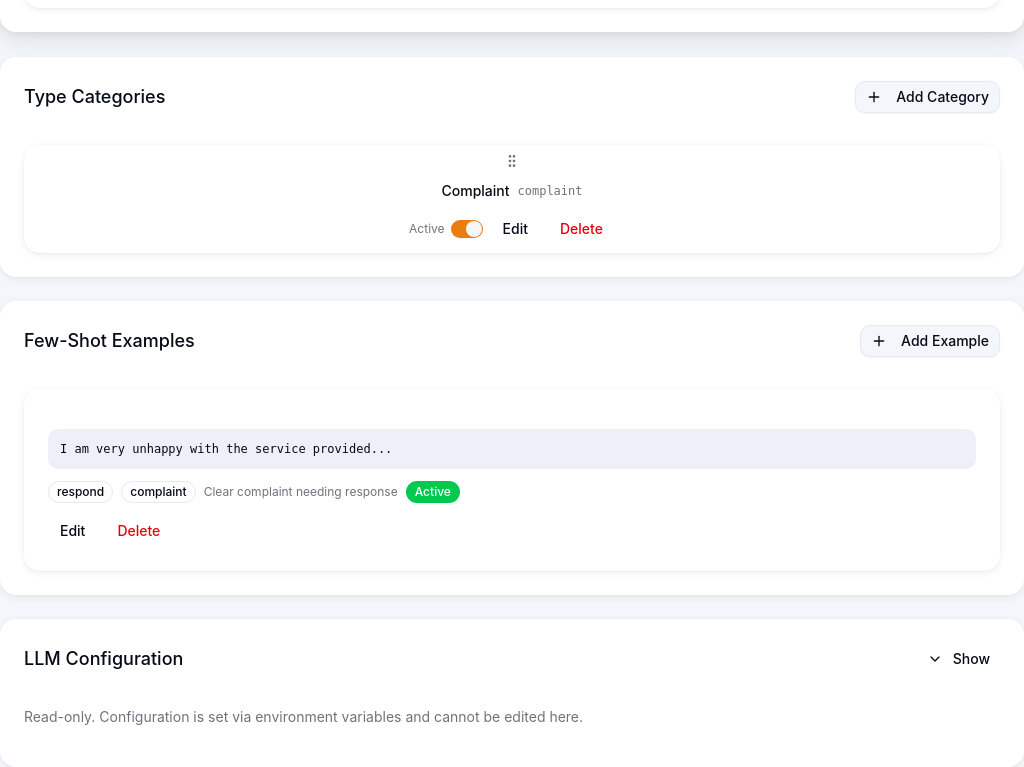
it: ClassificationConfigPage › clicking Show on LLM Configuration expands the section
This screenshot has width=1024, height=767.
(page scrolled)
Click the button "Show" at [958, 659], box [917, 643, 1000, 675]
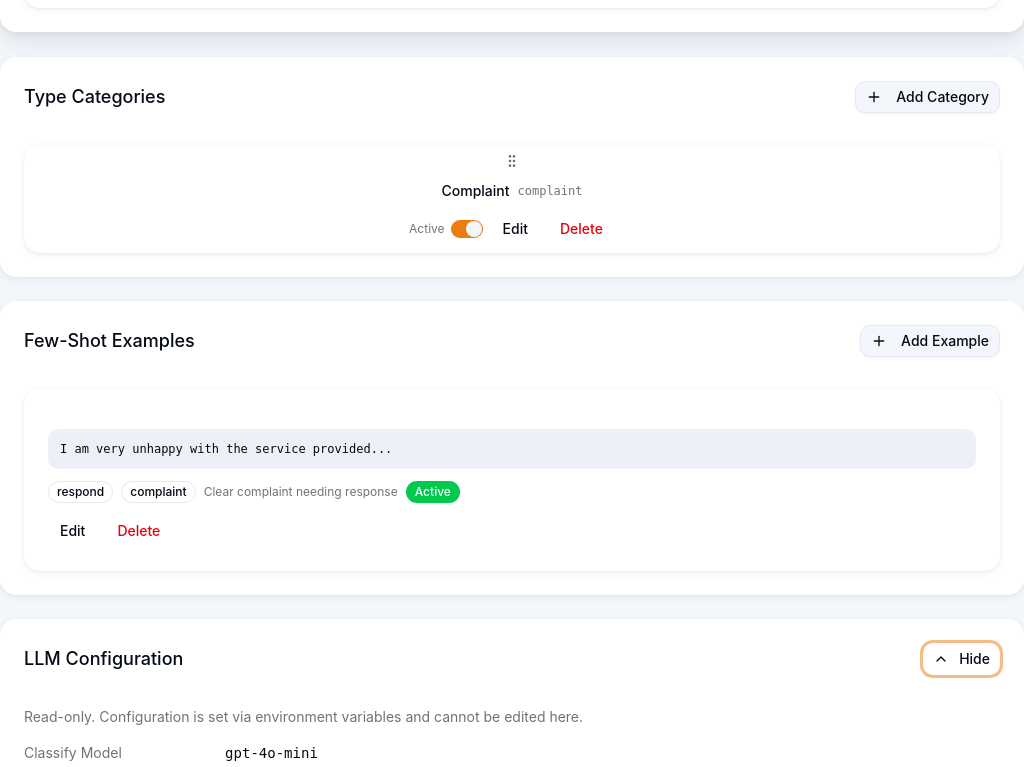
Now the text "gpt-4o-mini" is shown, box [225, 745, 318, 761]
Now the button "Hide" is expanded, box [923, 643, 1000, 675]
